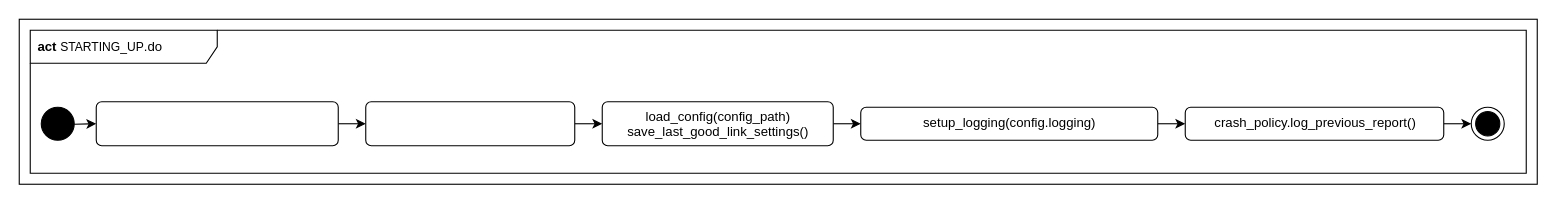
Image size: 1557x204. Some labels were removed from this diagram. Here are the shapes that lost their labels. From the top down, the centre of each, then its label:
At (216,123): "signal.signal(SIGINT, handle_sigint) signal.signal(SIGTERM, handle_sigterm)".
At (470,123): "migrate_legacy_mode_override() migrate_legacy_system_mode()".
